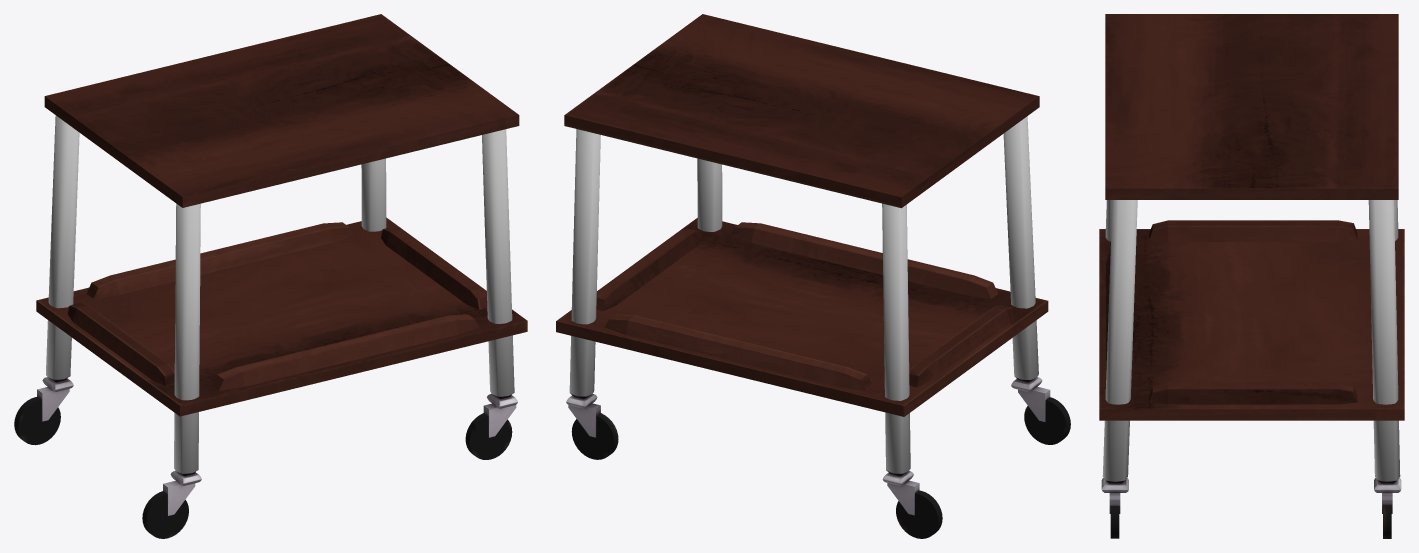
File: Lv1_Gueridon.fbx
The picture shows the model from 3 angles, left to right: view 1: azimuth 30°, elevation 25°; view 2: azimuth 150°, elevation 25°; view 3: azimuth 270°, elevation 25°; orthographic projection. The views are drawn at different scales.
Parts seen in each view (by area): view 1: Lv1_gueridon_main, Lv1_gueridon.002, Lv1_gueridon.001, Lv1_gueridon_ruedas.002, Lv1_gueridon_ruedas.001, Lv1_gueridon_ruedas; view 2: Lv1_gueridon_main, Lv1_gueridon.002, Lv1_gueridon.001, Lv1_gueridon_ruedas.002, Lv1_gueridon_ruedas.001, Lv1_gueridon_ruedas; view 3: Lv1_gueridon_main, Lv1_gueridon.002, Lv1_gueridon.001, Lv1_gueridon_ruedas.002, Lv1_gueridon_ruedas.
Boxes of the visible parts, left/top/right/bottom form: Lv1_gueridon_main: left=36, top=14, right=527, bottom=416; Lv1_gueridon.002: left=46, top=115, right=514, bottom=476; Lv1_gueridon.001: left=67, top=222, right=487, bottom=390; Lv1_gueridon_ruedas.002: left=14, top=396, right=512, bottom=538; Lv1_gueridon_ruedas.001: left=37, top=387, right=516, bottom=515; Lv1_gueridon_ruedas: left=42, top=377, right=517, bottom=485; Lv1_gueridon_main: left=556, top=14, right=1048, bottom=416; Lv1_gueridon.002: left=569, top=116, right=1038, bottom=476; Lv1_gueridon.001: left=596, top=222, right=1015, bottom=390; Lv1_gueridon_ruedas.002: left=571, top=397, right=1070, bottom=538; Lv1_gueridon_ruedas.001: left=568, top=386, right=1050, bottom=515; Lv1_gueridon_ruedas: left=566, top=377, right=1042, bottom=485; Lv1_gueridon_main: left=1099, top=14, right=1404, bottom=420; Lv1_gueridon.002: left=1102, top=200, right=1400, bottom=483; Lv1_gueridon.001: left=1106, top=220, right=1397, bottom=404; Lv1_gueridon_ruedas.002: left=1110, top=505, right=1391, bottom=538; Lv1_gueridon_ruedas: left=1101, top=478, right=1401, bottom=492.
Bounding box in the file's own units: 89.62 × 77.47 × 59.38.
1 material, 1 textured.
